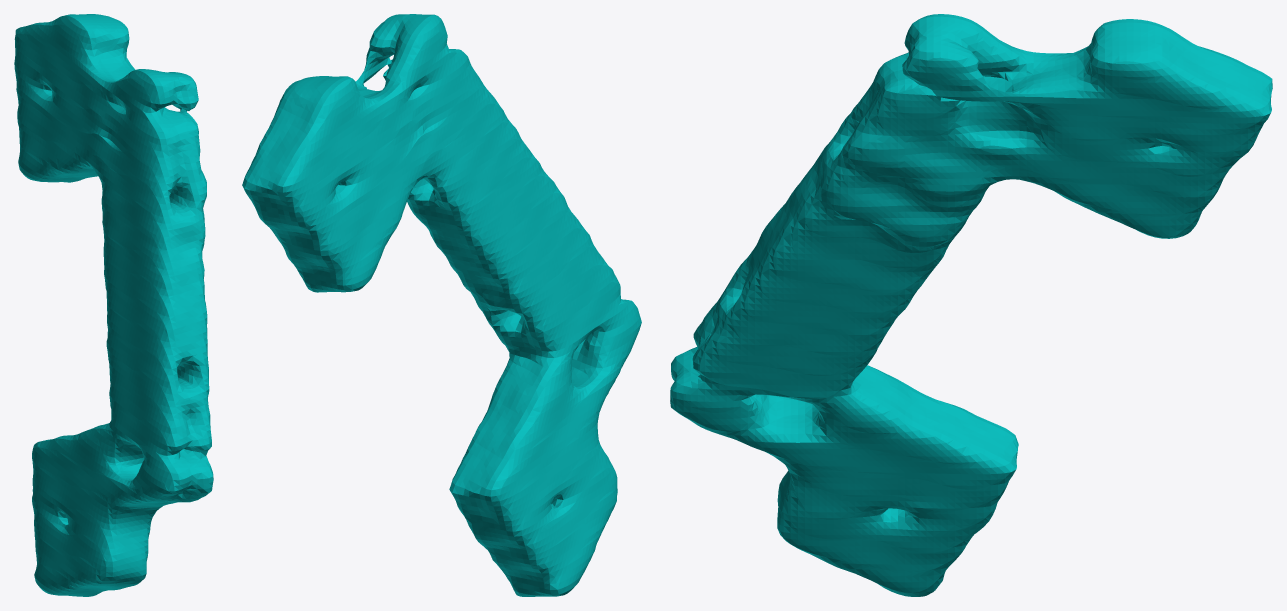
3 renders of one model, left to right at view 1: azimuth 30°, elevation 25°; view 2: azimuth 150°, elevation 25°; view 3: azimuth 270°, elevation 25°, orthographic. The views are drawn at different scales.
Bounding box in the file's own units: 0.3341 × 0.952 × 0.8271.
